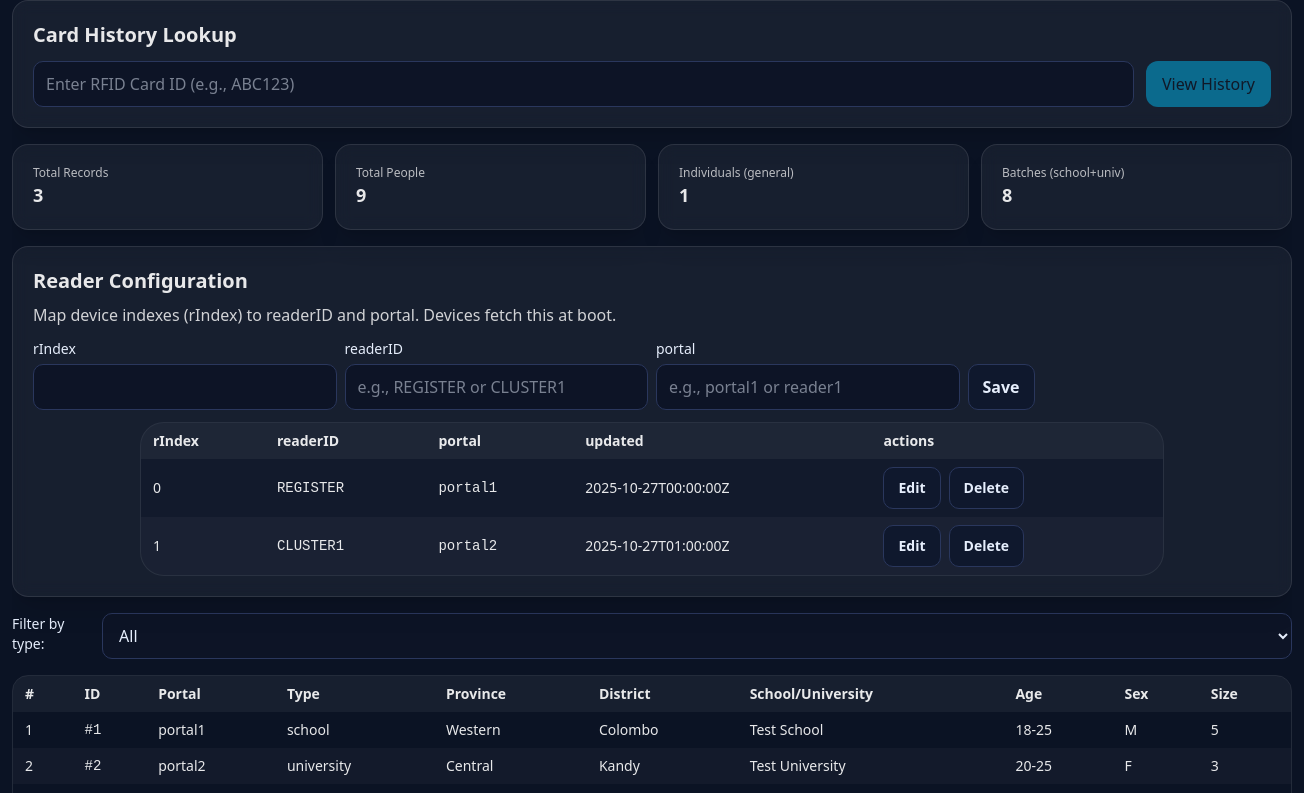
AdminPortal › Registration Filtering › should filter registrations by university type
Check: the text "Filter by type:" is shown, box left=12, top=614, right=64, bottom=652
Select "University" in the dropdown showing "All" at (697, 636), box left=102, top=613, right=1292, bottom=659
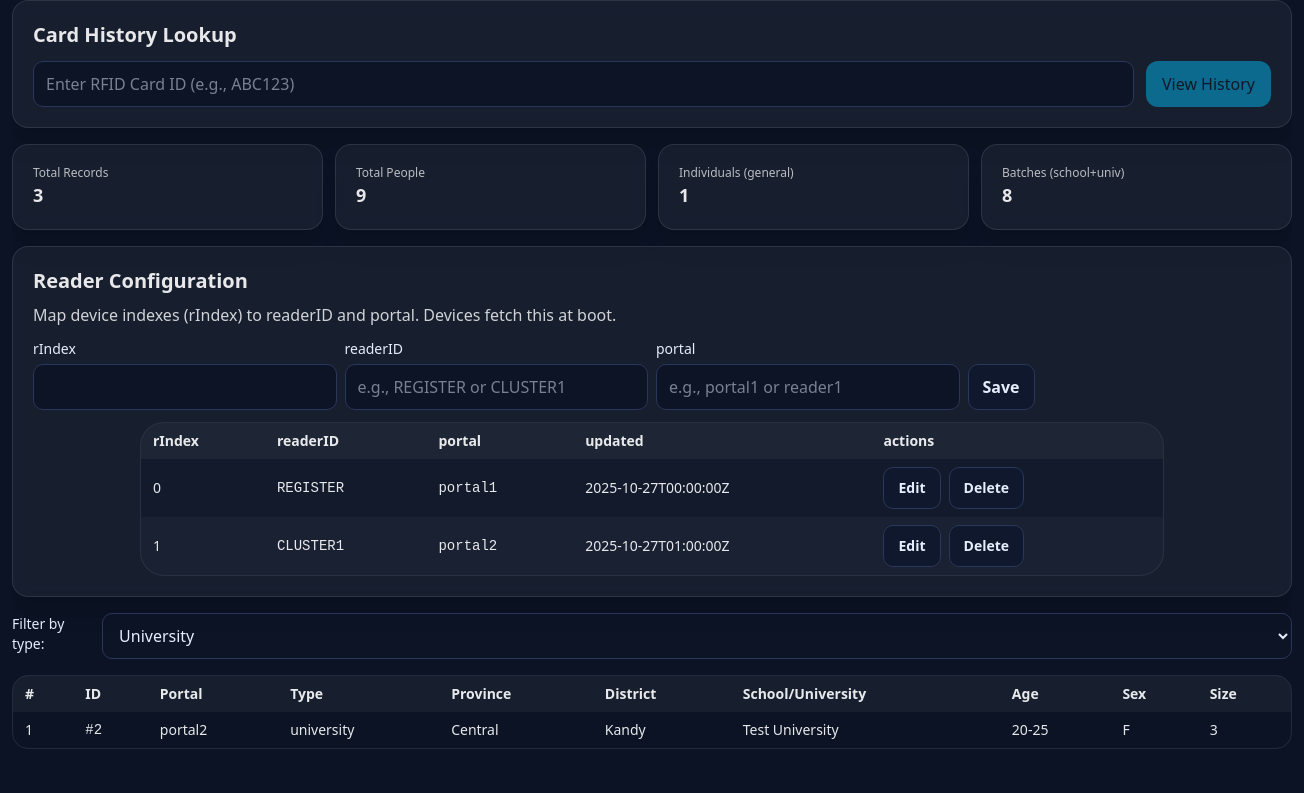
Check: the text "Test University" is shown, box left=731, top=712, right=1000, bottom=748
Check: the text "Test School" is gone
